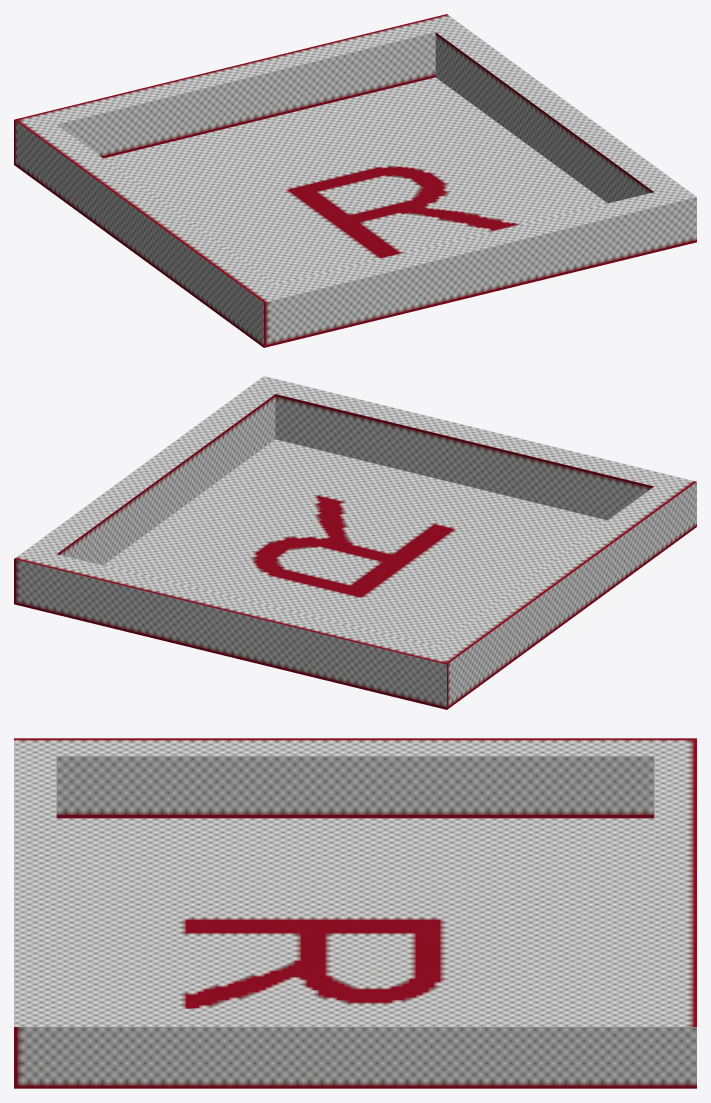
Rendered from Roof_Closed.fbx.
3 renders of one model, top to bottom at view 1: azimuth 30°, elevation 25°; view 2: azimuth 150°, elevation 25°; view 3: azimuth 270°, elevation 25°, orthographic. The views are drawn at different scales.
Parts seen in each view (by area): view 1: Roof_Closed; view 2: Roof_Closed; view 3: Roof_Closed.
Boxes of the visible parts, x1,y1,x2,y2 form: Roof_Closed: [14, 14, 696, 347]; Roof_Closed: [14, 376, 696, 709]; Roof_Closed: [14, 738, 696, 1088].
Bounding box in the file's own units: 1000 × 100 × 1000.
